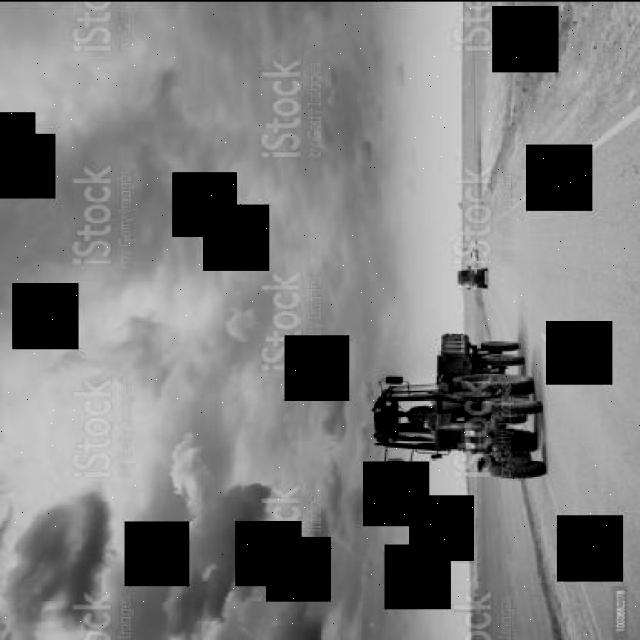Tratores - v5 YOLO V8L 2024-11-13: (311, 304, 598, 516)
